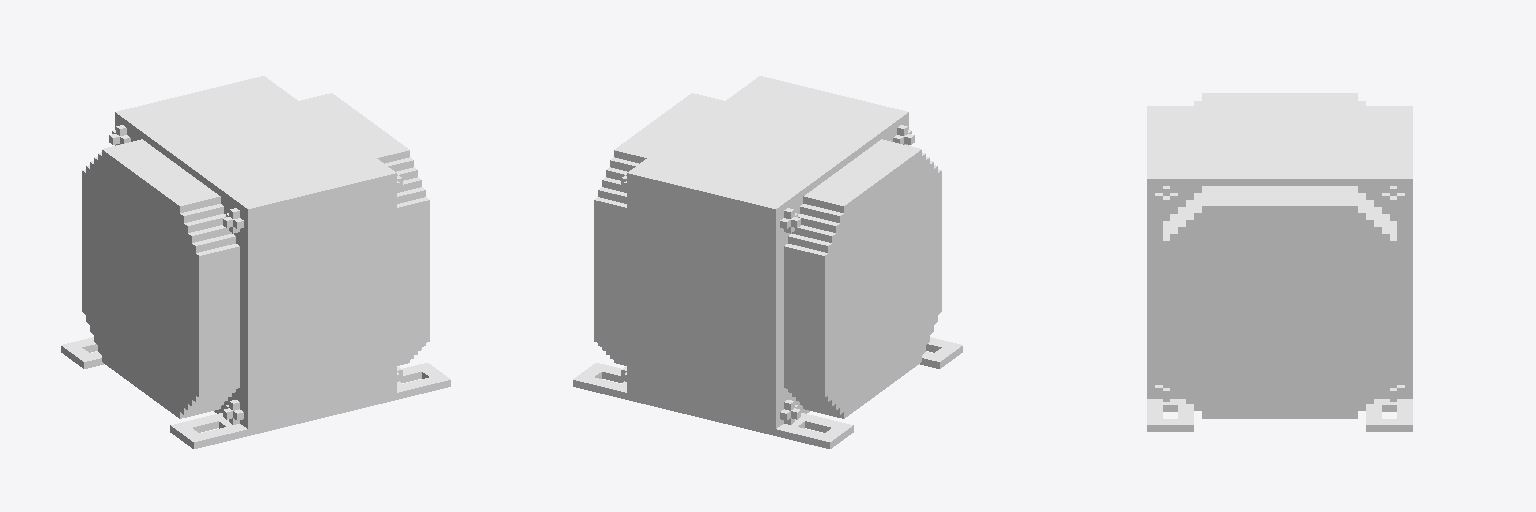
Rendered from Transformador.obj.
3 renders of one model, left to right at view 1: azimuth 30°, elevation 25°; view 2: azimuth 150°, elevation 25°; view 3: azimuth 270°, elevation 25°, orthographic.
Visible parts, largest first — view 1: object 1; view 2: object 1; view 3: object 1.
Part boxes in pixels (left/top/right/bottom): object 1: left=61, top=76, right=450, bottom=448; object 1: left=573, top=76, right=962, bottom=448; object 1: left=1147, top=93, right=1412, bottom=431.
Bounding box in the file's own units: 3.8 × 3.2 × 3.4.